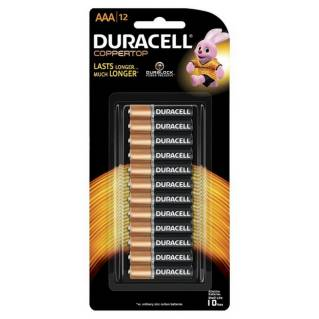Battery: (127, 145, 197, 163), (125, 222, 197, 238), (127, 249, 197, 265), (127, 265, 196, 281), (125, 176, 196, 191), (125, 206, 196, 221), (126, 191, 196, 206), (127, 104, 195, 119), (126, 162, 196, 176), (127, 134, 196, 148), (127, 120, 195, 133), (126, 238, 196, 249)
